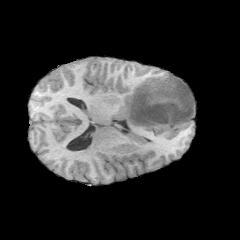glioma: (123, 76, 191, 130)
